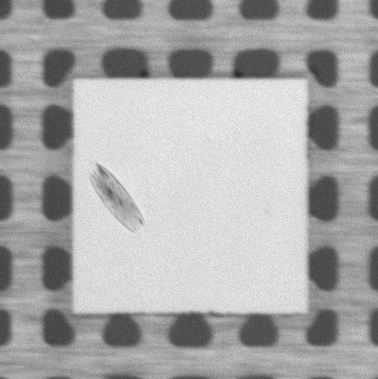DIE_INK: (85, 158, 149, 237)
